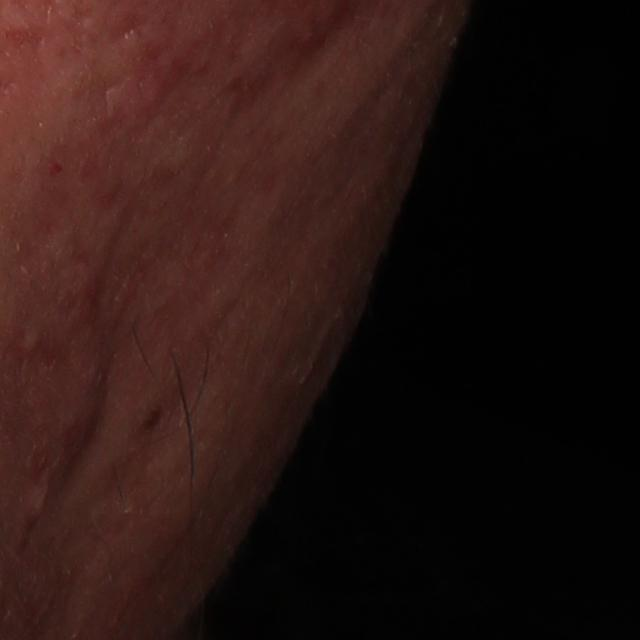nodule: (11, 327, 120, 536)
